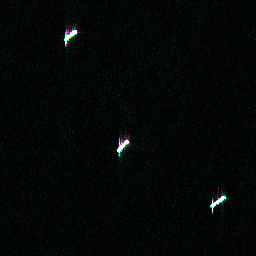ship: (207, 192, 228, 210), (61, 27, 80, 45), (114, 137, 131, 155)
